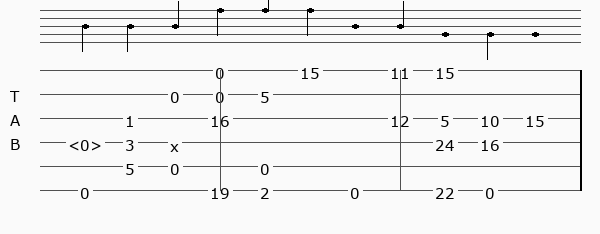0: (80, 183, 94, 198), (170, 87, 184, 102), (170, 159, 184, 174), (215, 87, 229, 102), (215, 63, 229, 78), (260, 159, 274, 174), (350, 183, 364, 198), (485, 183, 499, 198)
1: (125, 111, 139, 126)
10: (480, 111, 504, 126)
11: (390, 63, 414, 78)
12: (390, 111, 414, 126)
15: (300, 63, 324, 78), (435, 63, 459, 78), (525, 111, 549, 126)
16: (210, 111, 234, 126), (480, 135, 504, 150)
19: (210, 183, 234, 198)
2: (260, 183, 274, 198)
22: (435, 183, 459, 198)
24: (435, 135, 459, 150)
3: (125, 135, 139, 150)
5: (125, 159, 139, 174), (260, 87, 274, 102), (440, 111, 454, 126)
harmonic: (68, 135, 106, 150)
x: (170, 136, 183, 148)
